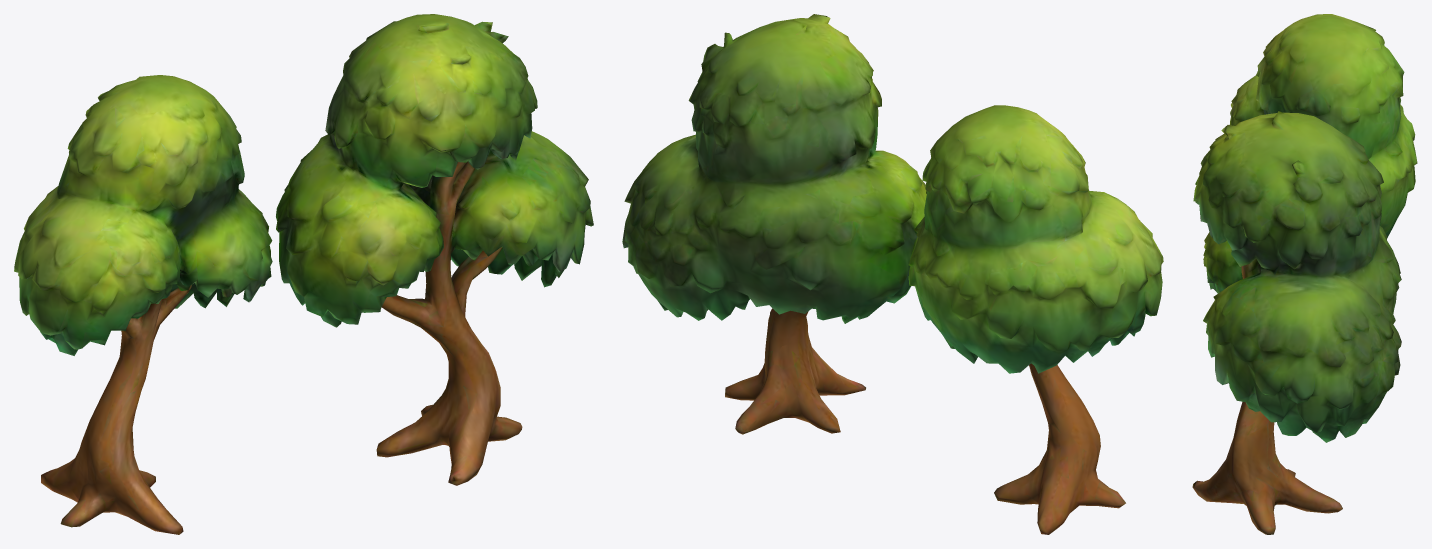
Rendered from tree.glb.
The picture shows the model from 3 angles, left to right: view 1: azimuth 30°, elevation 25°; view 2: azimuth 150°, elevation 25°; view 3: azimuth 270°, elevation 25°; orthographic projection. The views are drawn at different scales.
Parts seen in each view (by area): view 1: Mesh1.0; view 2: Mesh1.0; view 3: Mesh1.0.
Boxes of the visible parts, x1=… form: Mesh1.0: x1=14, y1=14, x2=593, y2=534; Mesh1.0: x1=622, y1=14, x2=1163, y2=534; Mesh1.0: x1=1192, y1=14, x2=1417, y2=534.
Bounding box in the file's own units: 1.91 × 1.39 × 0.7401.
Materials: 1 (1 with a texture image).
